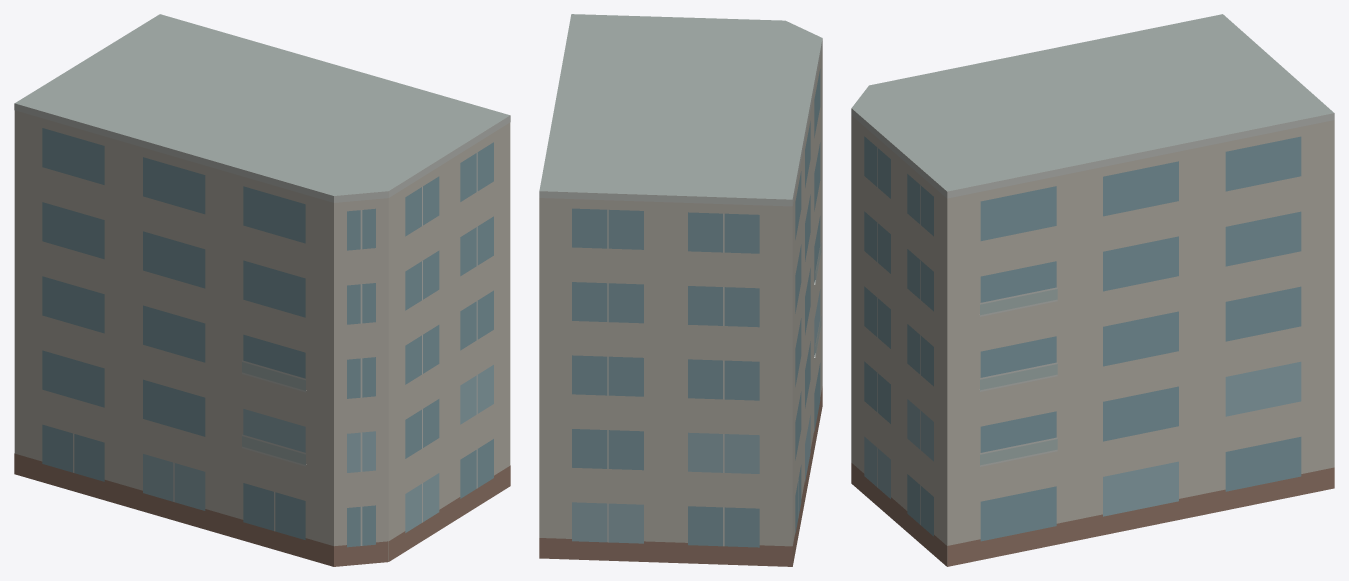
File: survey-upis-32705746.glb
The picture shows the model from 3 angles, left to right: view 1: azimuth 30°, elevation 25°; view 2: azimuth 150°, elevation 25°; view 3: azimuth 270°, elevation 25°; orthographic projection. The views are drawn at different scales.
Visible parts, largest first — view 1: survey-upis-32705746.tmp; view 2: survey-upis-32705746.tmp; view 3: survey-upis-32705746.tmp.
Part boxes in pixels (box(x1,y1,x2,y2)): survey-upis-32705746.tmp: box(14, 14, 510, 566); survey-upis-32705746.tmp: box(539, 14, 822, 566); survey-upis-32705746.tmp: box(851, 14, 1334, 566).
Bounding box in the file's own units: 13.36 × 13.15 × 15.35.
